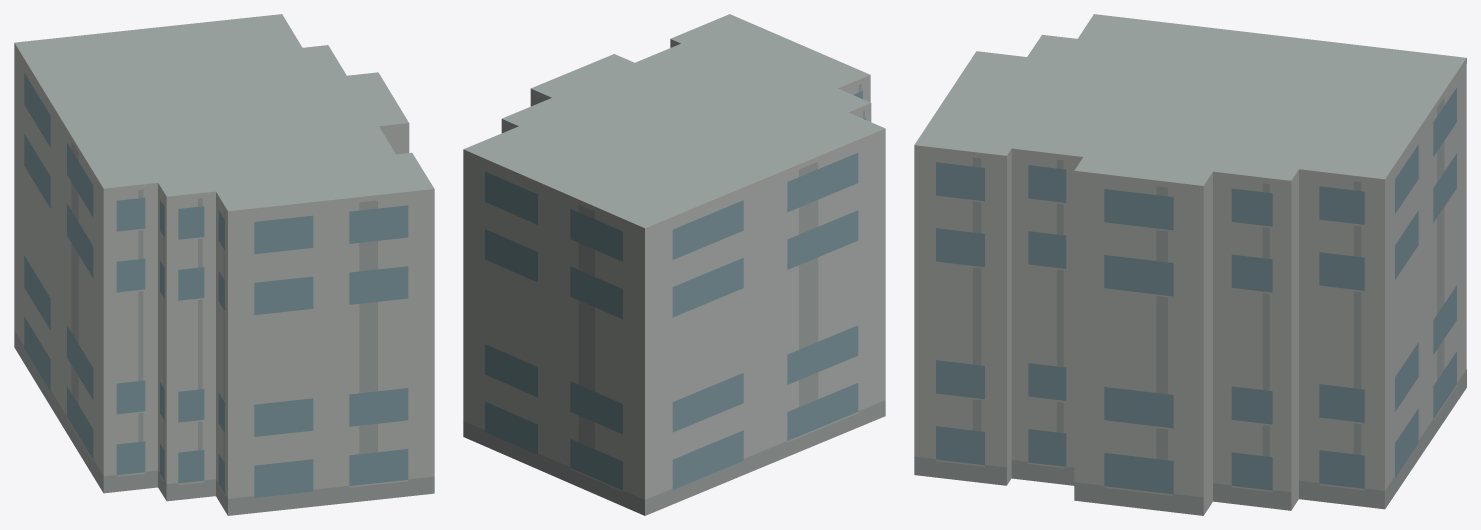
The model's file is survey-upis-32813768.glb.
3 renders of one model, left to right at view 1: azimuth 30°, elevation 25°; view 2: azimuth 150°, elevation 25°; view 3: azimuth 270°, elevation 25°, orthographic. The views are drawn at different scales.
Visible parts, largest first — view 1: survey-upis-32813768.tmp; view 2: survey-upis-32813768.tmp; view 3: survey-upis-32813768.tmp.
Part boxes in pixels (<box>): survey-upis-32813768.tmp: <box>14,14,434,515</box>; survey-upis-32813768.tmp: <box>463,14,885,515</box>; survey-upis-32813768.tmp: <box>914,14,1466,515</box>.
Size of the model in its own units: 15.55 by 13.9 by 21.11.
